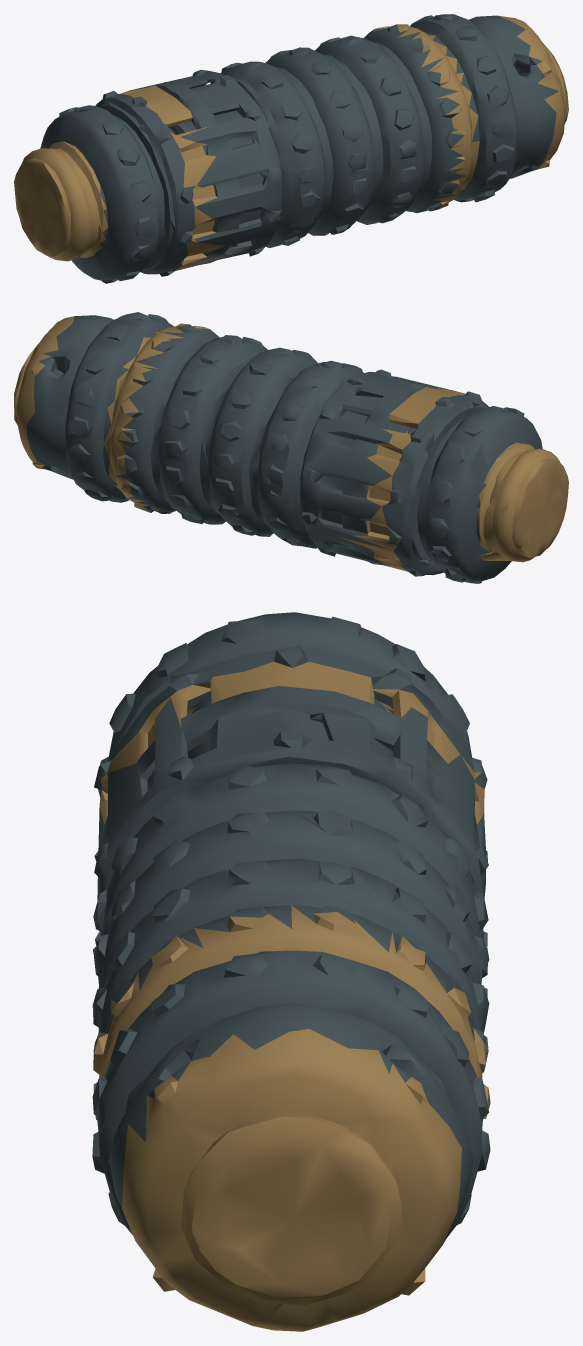
The model's file is 07_LowerReinforced.glb.
The picture shows the model from 3 angles, top to bottom: view 1: azimuth 30°, elevation 25°; view 2: azimuth 150°, elevation 25°; view 3: azimuth 270°, elevation 25°; orthographic projection. The views are drawn at different scales.
Parts seen in each view (by area): view 1: SM_TS_BrineMK1_LowerReinforced_V02; view 2: SM_TS_BrineMK1_LowerReinforced_V02; view 3: SM_TS_BrineMK1_LowerReinforced_V02.
Boxes of the visible parts, x1,y1,x2,y2 form: SM_TS_BrineMK1_LowerReinforced_V02: (14,14,568,283); SM_TS_BrineMK1_LowerReinforced_V02: (14,312,568,583); SM_TS_BrineMK1_LowerReinforced_V02: (92,612,490,1331).
Bounding box in the file's own units: 0.3421 × 0.1114 × 0.1166.
